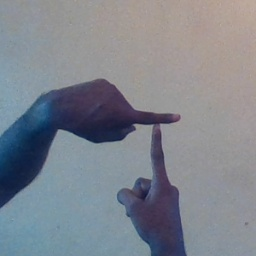T: (106, 85, 198, 200)
